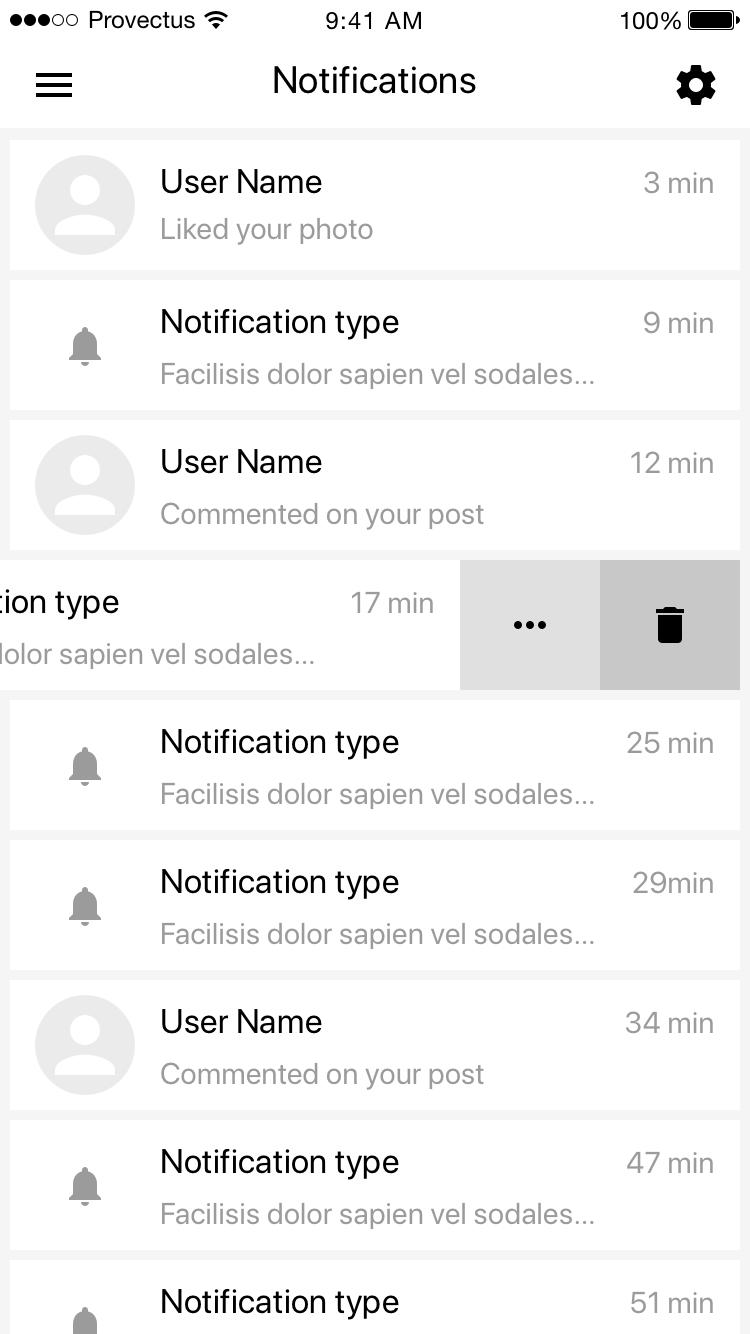Icon: (36, 155, 136, 257), (37, 994, 137, 1096), (35, 434, 135, 534), (675, 65, 716, 107), (69, 747, 103, 788), (69, 887, 103, 928), (69, 1167, 103, 1207), (70, 328, 102, 368), (654, 606, 686, 645), (36, 73, 75, 98), (71, 1303, 98, 1334), (513, 620, 548, 630)
Text: (163, 780, 601, 811), (162, 363, 596, 392), (161, 922, 595, 951), (162, 1201, 596, 1230), (161, 1061, 486, 1090), (160, 503, 488, 530), (1, 642, 316, 670), (162, 1148, 400, 1182), (162, 308, 399, 342), (162, 728, 400, 761), (162, 868, 400, 901), (163, 1287, 400, 1320), (162, 218, 374, 247), (274, 65, 477, 95), (162, 1006, 323, 1035), (162, 449, 323, 476), (162, 168, 323, 194), (1, 589, 122, 619), (626, 1150, 715, 1176), (625, 1010, 715, 1035), (632, 871, 714, 896), (630, 451, 715, 475), (351, 591, 435, 615), (631, 1290, 714, 1314), (625, 732, 715, 754), (644, 310, 715, 335), (644, 172, 715, 195)
UpperTaskBar: (1, 1, 750, 32)
